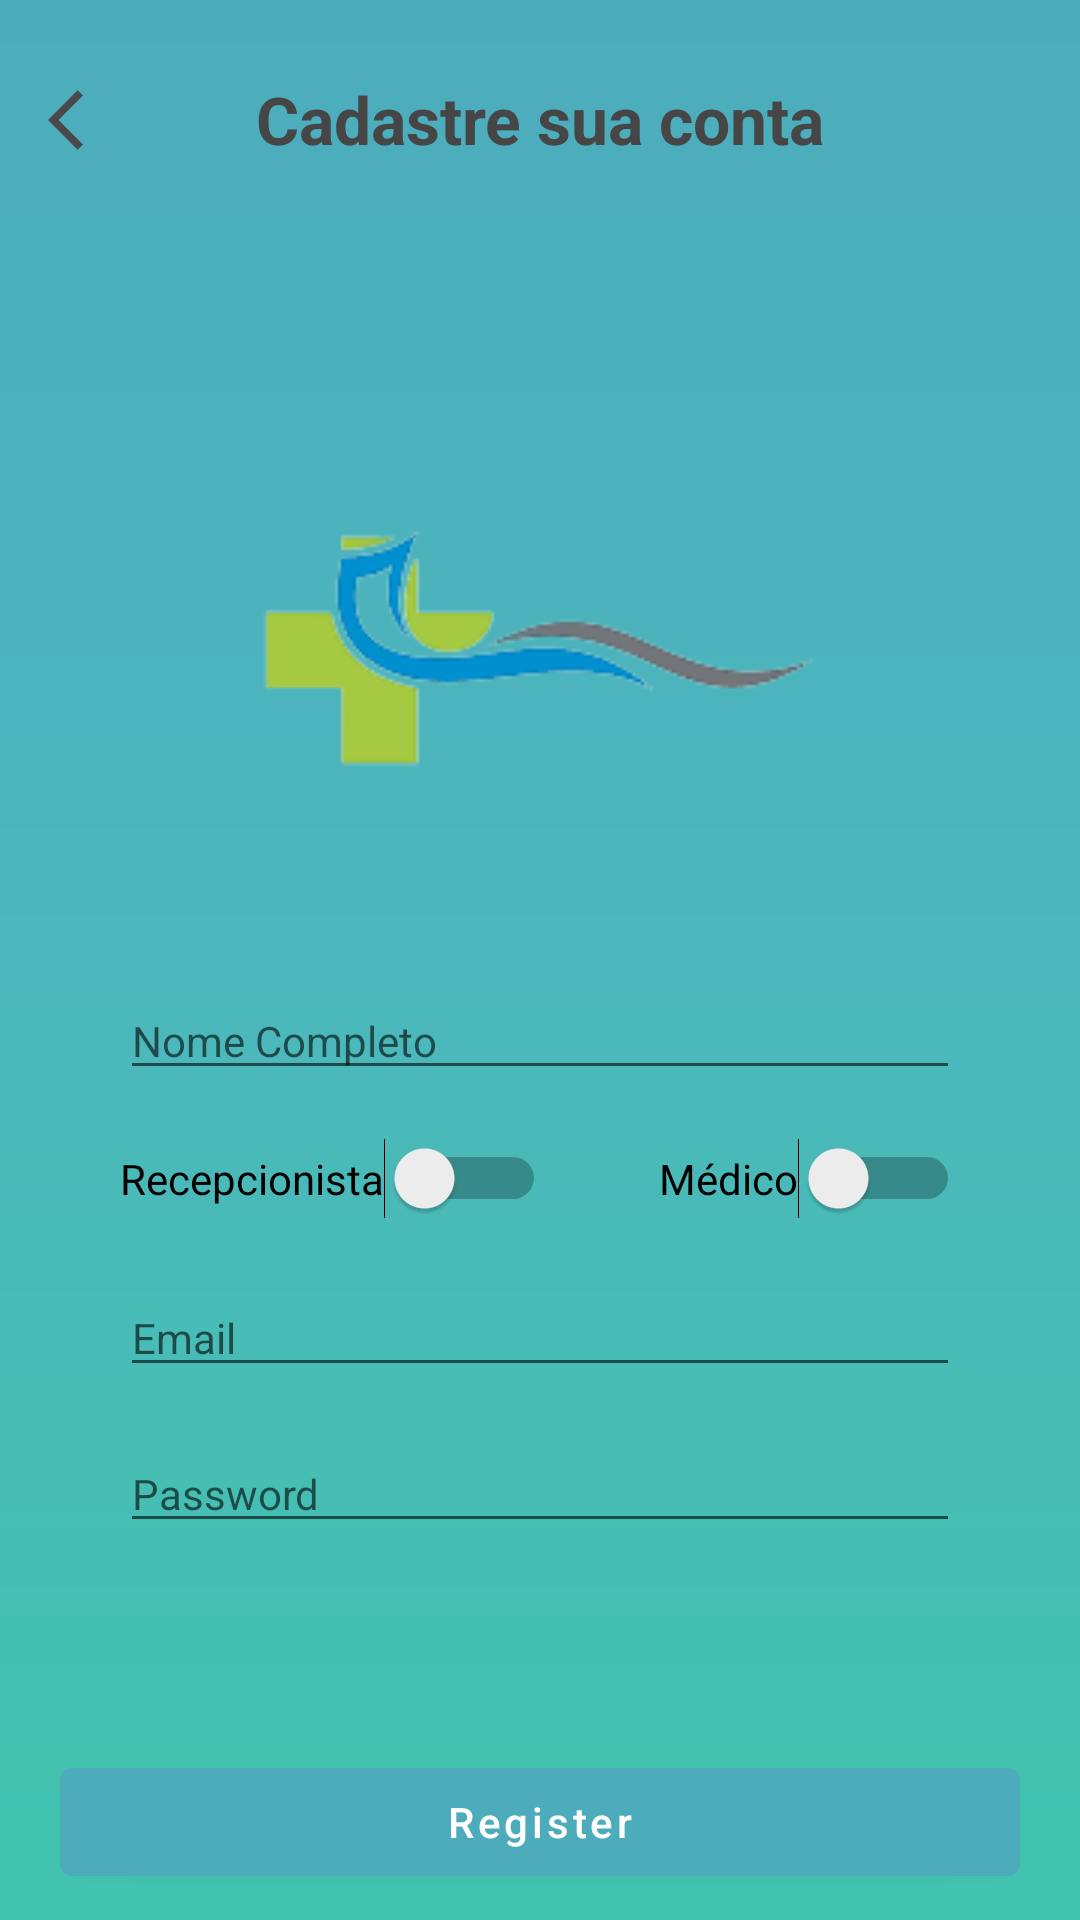

Icons on this 1080 x 1920 Android screen, each with the point to tap as (x=x, y=y):
back: (x=65, y=120)
